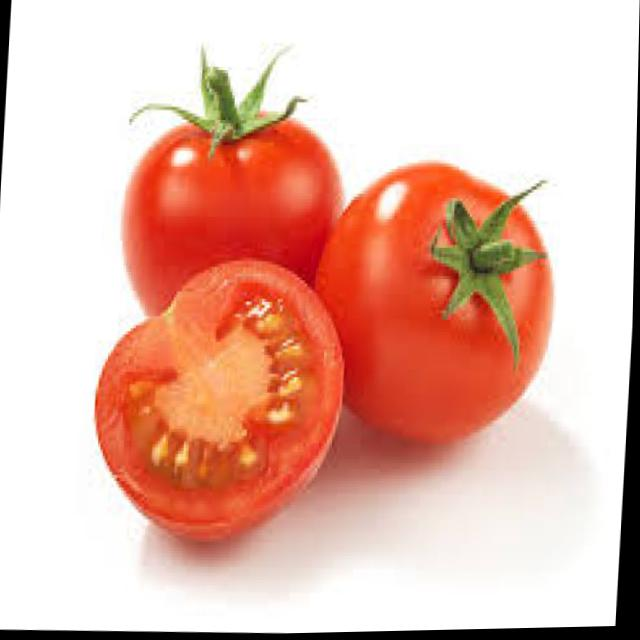tomato: (305, 159, 564, 455), (121, 106, 351, 326)
